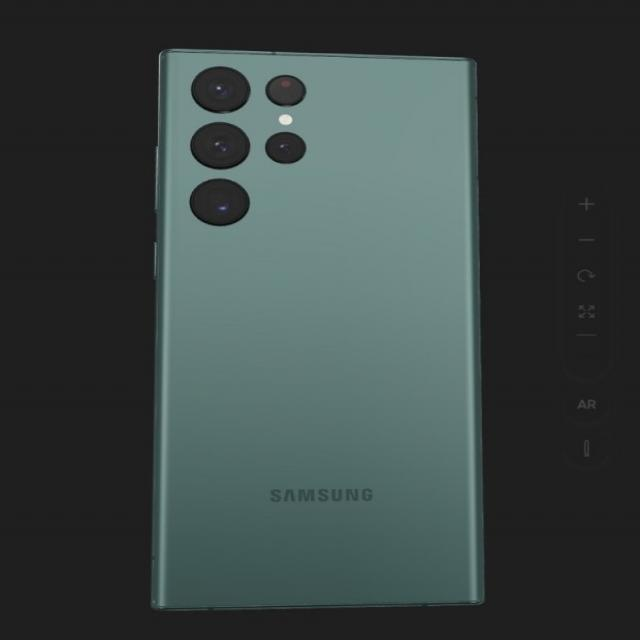phone: (150, 42, 493, 620)
